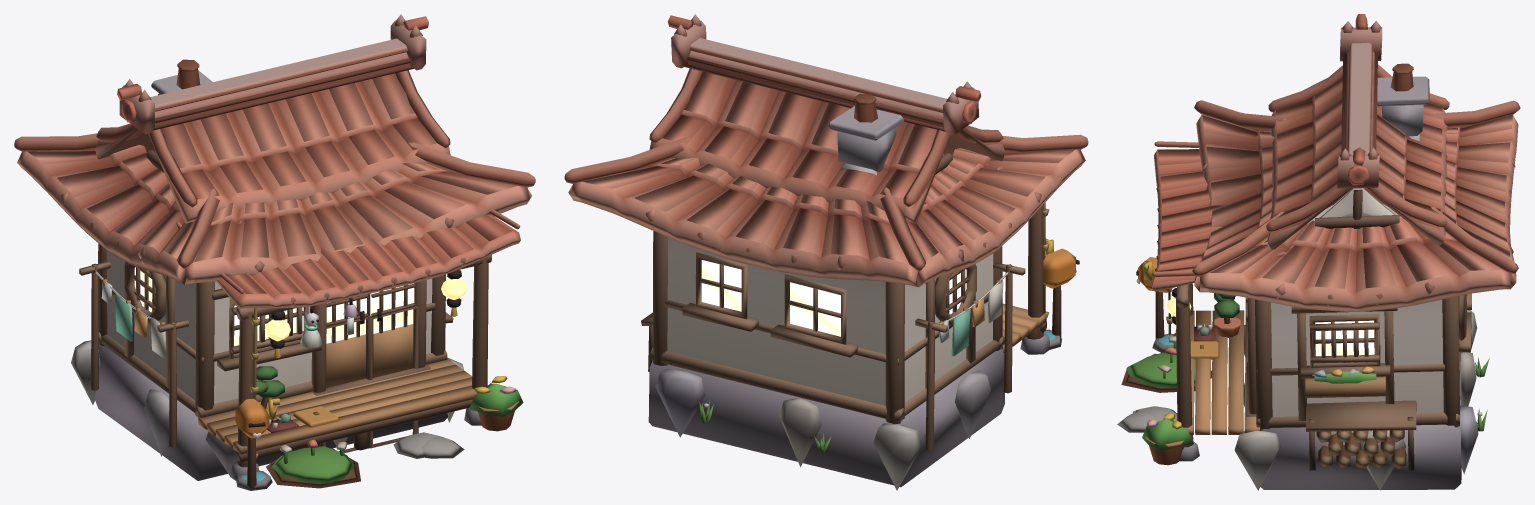
Rendered from home-2-v7.glb.
The picture shows the model from 3 angles, left to right: view 1: azimuth 30°, elevation 25°; view 2: azimuth 150°, elevation 25°; view 3: azimuth 270°, elevation 25°; orthographic projection. The views are drawn at different scales.
Visible parts, largest first — view 1: home, window_glow; view 2: home, window_glow; view 3: home, window_glow.
Boxes of the visible parts, bbox=[...] form: home: bbox=[14, 14, 535, 490]; window_glow: bbox=[134, 267, 467, 346]; home: bbox=[564, 14, 1088, 490]; window_glow: bbox=[701, 260, 966, 336]; home: bbox=[1117, 14, 1520, 490]; window_glow: bbox=[1166, 297, 1374, 356].
Size of the model in its own units: 3.46 by 3.38 by 3.51.
